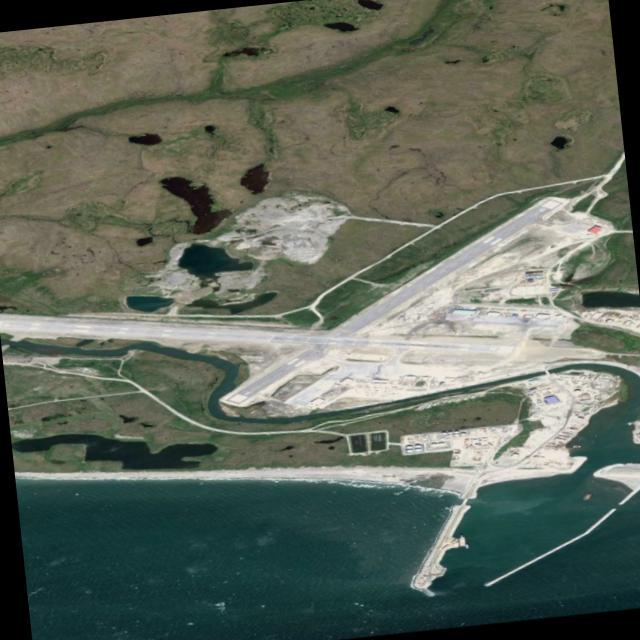storage-tank: (438, 441, 444, 446), (415, 443, 420, 449), (407, 449, 413, 454), (406, 444, 412, 449), (431, 443, 438, 447), (415, 448, 421, 452)
